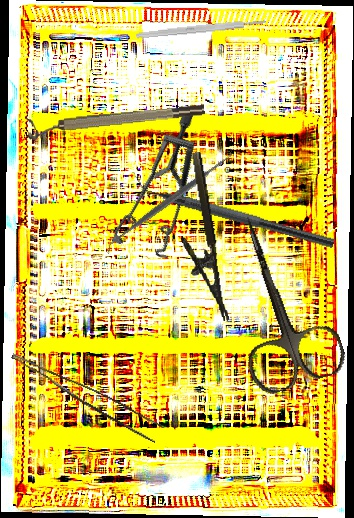Chopper: (126, 169, 339, 249)
Fixation Ring: (26, 101, 206, 141)
Iris Scissors: (204, 201, 350, 399)
Needle Holder: (168, 151, 230, 326)
Scalpel Handle: (135, 18, 267, 40)
Spatula Surgical: (99, 146, 240, 256)
Speculum: (74, 104, 255, 279)
Tissue Forceps: (3, 353, 165, 443)
